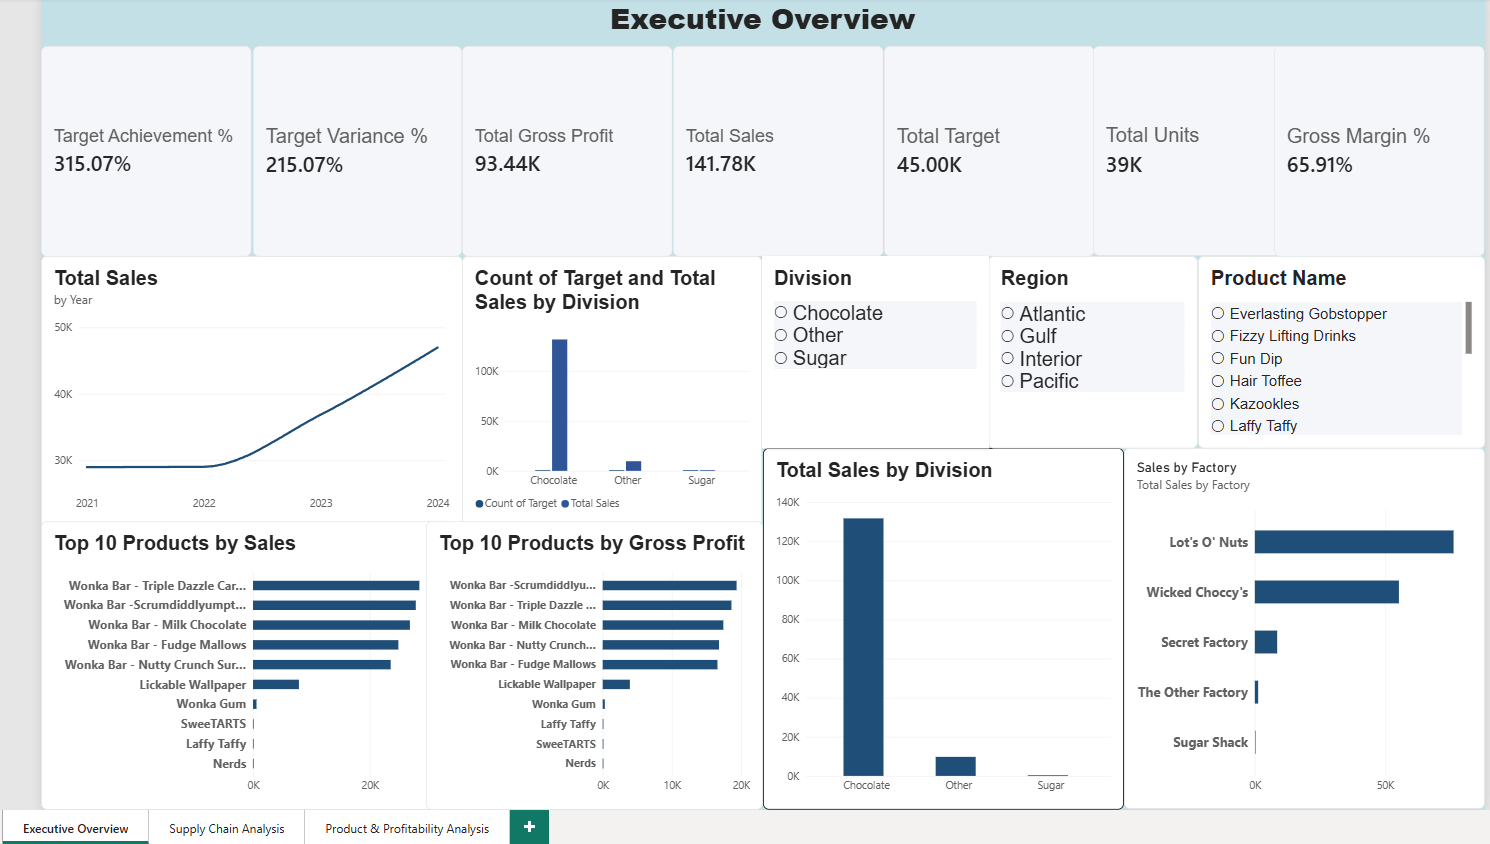

The page's visual inventory and layout, read from the dashboard file:
{"tool":"powerbi","page":{"name":"Executive Overview","canvas":[1920,1080],"ordinal":0},"visuals":[{"type":"cardVisual","fields":{"Data":["SALES.Target Achievement %"]},"box":[0,63.5,280,280],"z":0},{"type":"cardVisual","fields":{"Data":["SALES.Total Gross Profit"]},"box":[560.5,63.5,280,280],"z":1000},{"type":"cardVisual","fields":{"Data":["SALES.Total Target"]},"box":[1121,63.5,280,280],"z":2000},{"type":"cardVisual","fields":{"Data":["SALES.Total Units"]},"box":[1399.7,63.5,279.9,279.9],"z":3000},{"type":"cardVisual","fields":{"Data":["SALES.Total Sales"]},"box":[840.8,63.5,280,280],"z":4000},{"type":"cardVisual","fields":{"Data":["SALES.Gross Margin %"]},"box":[1639.7,63.5,280,280],"z":5000},{"type":"clusteredColumnChart","fields":{"Category":["PRODUCT.Division"],"Y":["SALES.Total Sales"]},"box":[960.8,599.1,479.6,481.1],"z":6000},{"type":"lineChart","fields":{"Category":["SALES.Order Date.Variation.Date Hierarchy.Year","SALES.Order Date.Variation.Date Hierarchy.Quarter","SALES.Order Date.Variation.Date Hierarchy.Month","SALES.Order Date.Variation.Date Hierarchy.Day"],"Y":["SALES.Total Sales"]},"box":[0,343.7,560.5,360.8],"z":7000},{"type":"listSlicer","fields":{"Values":["SALES.Region"]},"box":[1259.6,343.2,278.9,255.9],"z":8000},{"type":"listSlicer","fields":{"Values":["SALES.Division"]},"box":[959.2,343.2,301.9,255.9],"z":9000},{"type":"listSlicer","fields":{"Values":["PRODUCT.Product Name"]},"box":[1538.5,343.2,381.5,255.9],"z":10000},{"type":"clusteredColumnChart","fields":{"Category":["SALES.Division"],"Y":["CountNonNull(TARGETS.Target)","SALES.Total Sales"]},"box":[560.5,343.7,399.5,360.8],"z":11000},{"type":"cardVisual","fields":{"Data":["SALES.Target Variance %"]},"box":[281.8,63.5,278.9,280.4],"z":12000},{"type":"barChart","title":"Top 10 Products by Sales","fields":{"Category":["PRODUCT.Product Name"],"Y":["SALES.Total Sales"]},"box":[0,696,544,384],"z":13000},{"type":"barChart","title":"Sales by Factory","fields":{"Category":["PRODUCT.Factory"],"Y":["SALES.Total Sales"]},"box":[1440.4,599.1,480,480],"z":14000},{"type":"barChart","title":"Top 10 Products by Gross Profit","fields":{"Category":["PRODUCT.Product Name"],"Y":["SALES.Total Gross Profit"]},"box":[512,696,448,384],"z":15000},{"type":"textbox","box":[608,0,704,96],"z":16000}]}

Visuals, with their boxes on the page's 1920x1080 design canvas (x1, y1, x2, y2). These are canvas units, not pixel positions in the 1490x844 screenshot, which may show the page scaled, cropped or inside an application window:
cardVisual - SALES.Target Achievement %: crop(0, 64, 280, 344)
cardVisual - SALES.Total Gross Profit: crop(560, 64, 840, 344)
cardVisual - SALES.Total Target: crop(1121, 64, 1401, 344)
cardVisual - SALES.Total Units: crop(1400, 64, 1680, 343)
cardVisual - SALES.Total Sales: crop(841, 64, 1121, 344)
cardVisual - SALES.Gross Margin %: crop(1640, 64, 1920, 344)
clusteredColumnChart - PRODUCT.Division x SALES.Total Sales: crop(961, 599, 1440, 1080)
lineChart - SALES.Order Date.Variation.Date Hierarchy.Year x SALES.Order Date.Variation.Date Hierarchy.Quarter: crop(0, 344, 560, 704)
listSlicer - SALES.Region: crop(1260, 343, 1538, 599)
listSlicer - SALES.Division: crop(959, 343, 1261, 599)
listSlicer - PRODUCT.Product Name: crop(1538, 343, 1920, 599)
clusteredColumnChart - SALES.Division x CountNonNull(TARGETS.Target): crop(560, 344, 960, 704)
cardVisual - SALES.Target Variance %: crop(282, 64, 561, 344)
"Top 10 Products by Sales" barChart: crop(0, 696, 544, 1080)
"Sales by Factory" barChart: crop(1440, 599, 1920, 1079)
"Top 10 Products by Gross Profit" barChart: crop(512, 696, 960, 1080)
textbox: crop(608, 0, 1312, 96)
